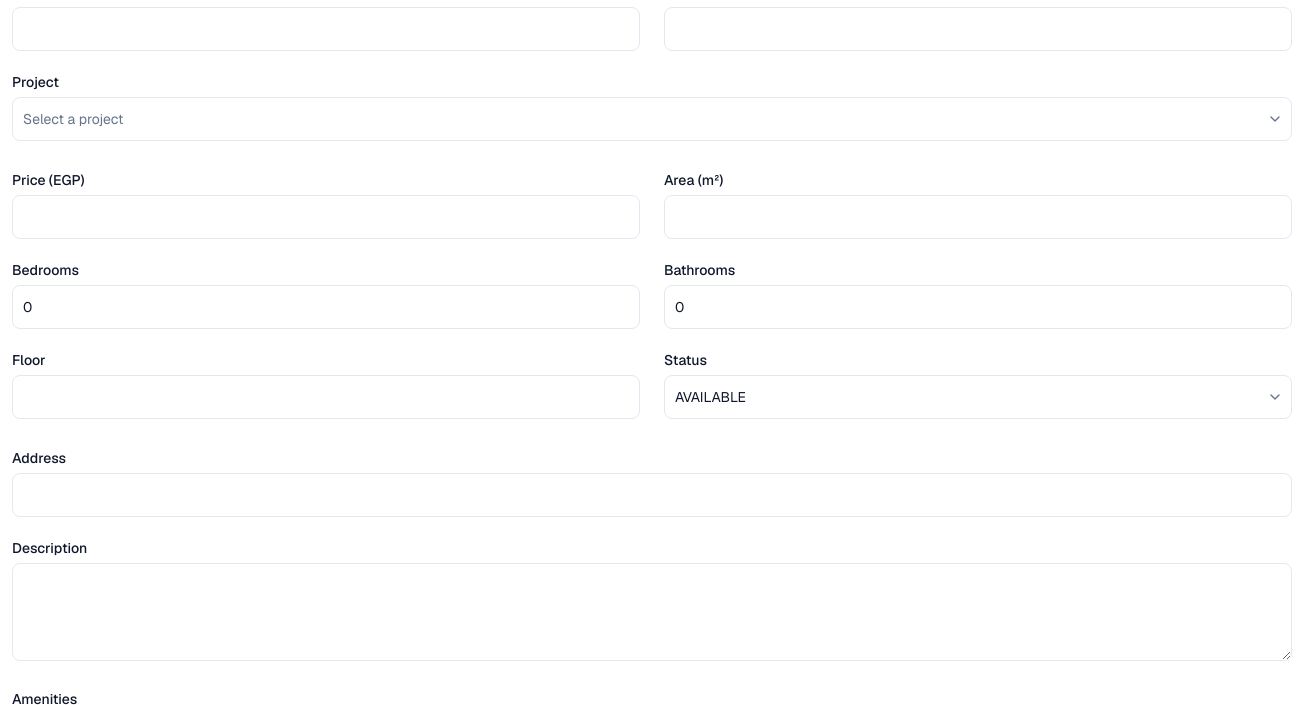
CreateApartmentForm › maps a 409 duplicate response onto the unitNumber field (BR-3)
In the field labelled "Unit name": (326, 29) [12,7,640,51], type "Skyline A1"
In the field labelled "Unit number": (978, 29) [664,7,1292,51], type "A-101"
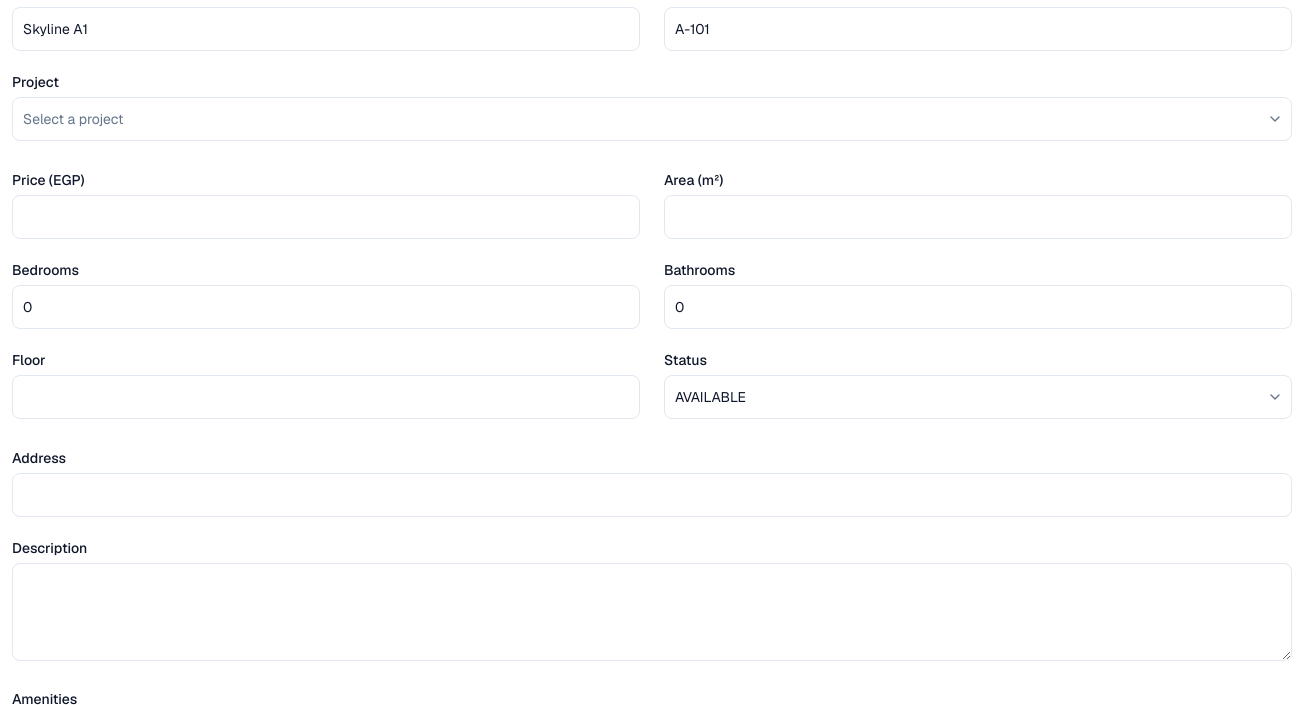
In the number field labelled "Price (EGP)": (326, 217) [12,195,640,239], type "2500000"
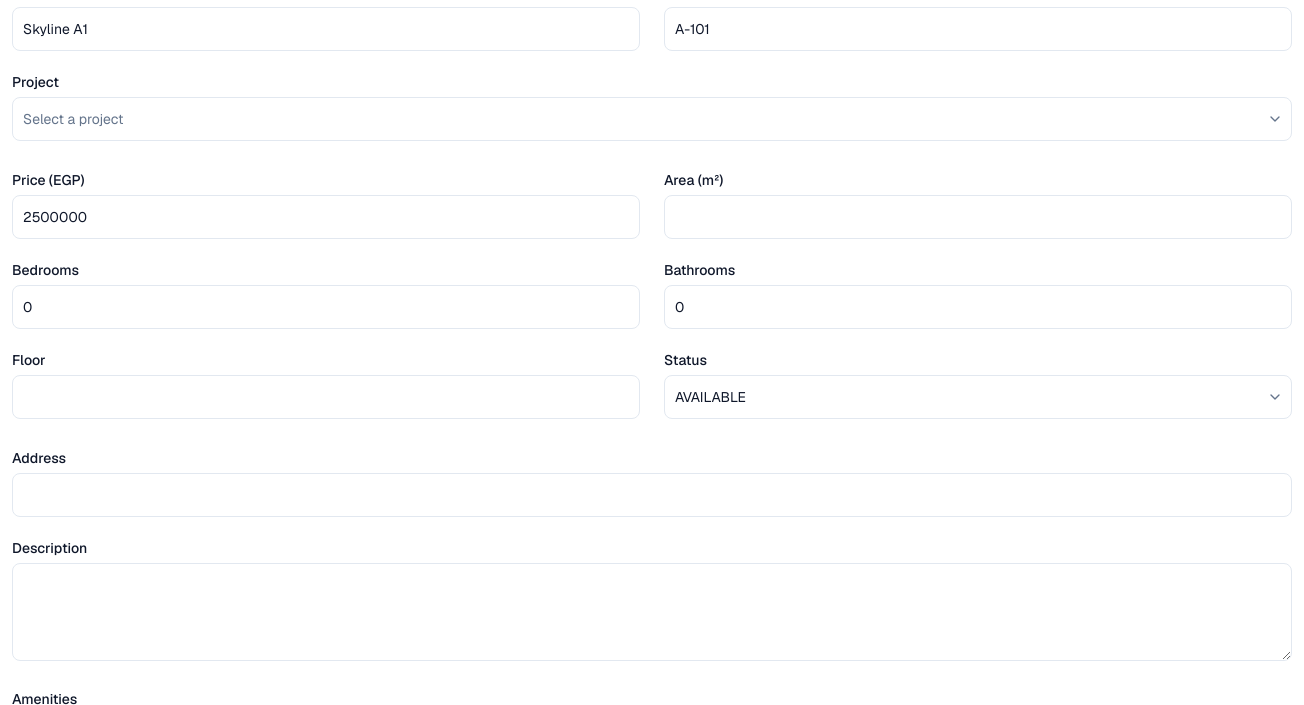
In the number field labelled "Area (m²)": (978, 217) [664,195,1292,239], type "180"
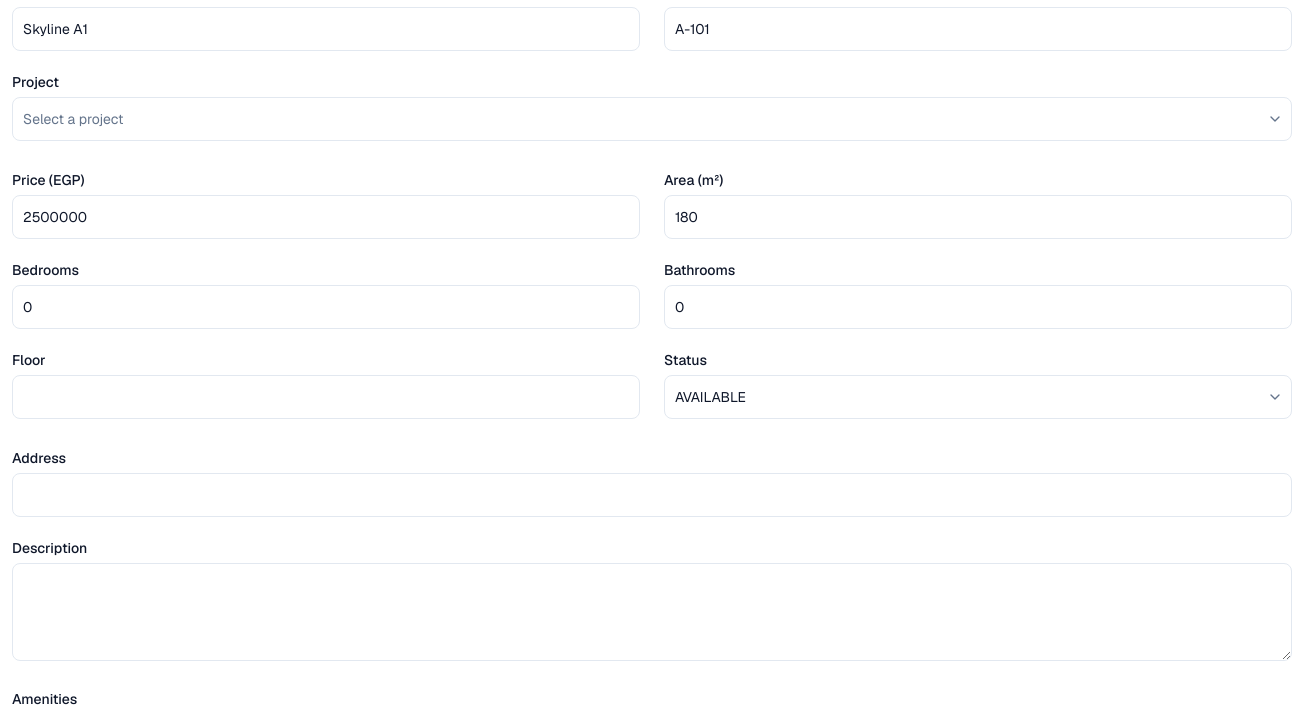
Click the dropdown labelled "project": (73, 119) [12,97,1292,141]
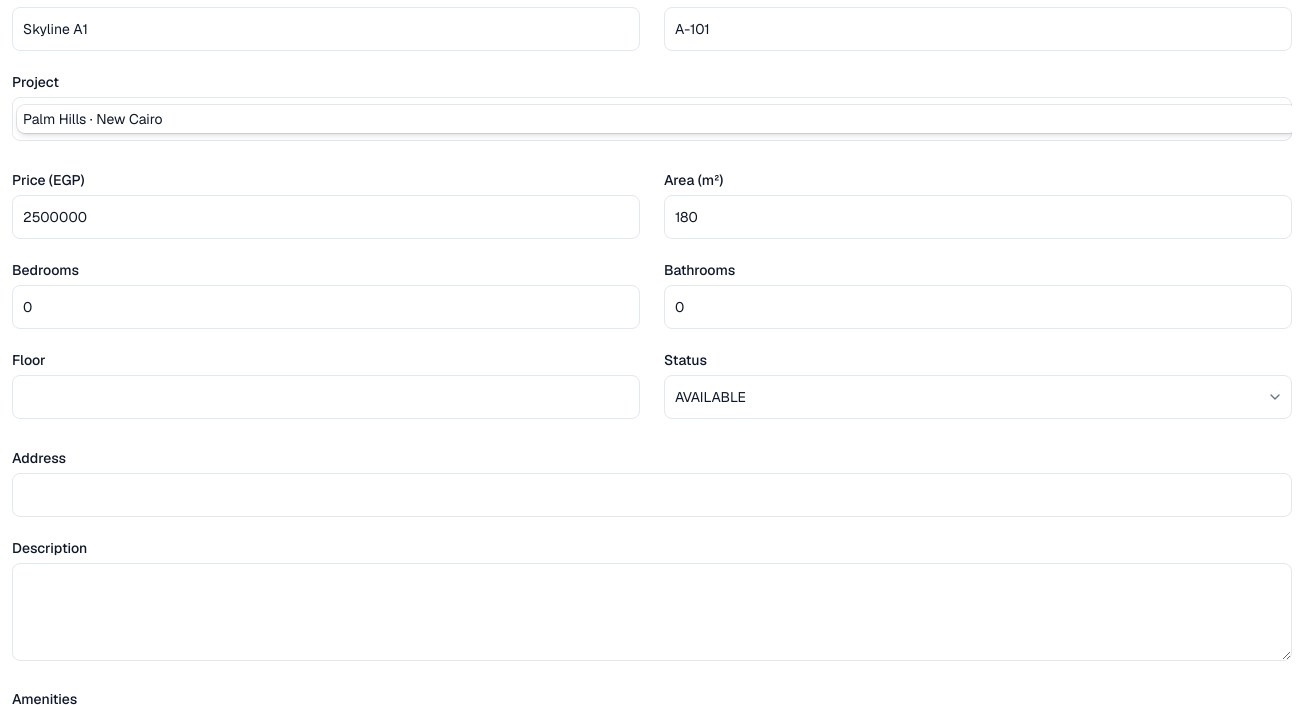
Click the option "Palm Hills · New Cairo": (93, 119) [23,110,163,128]
(page scrolled)
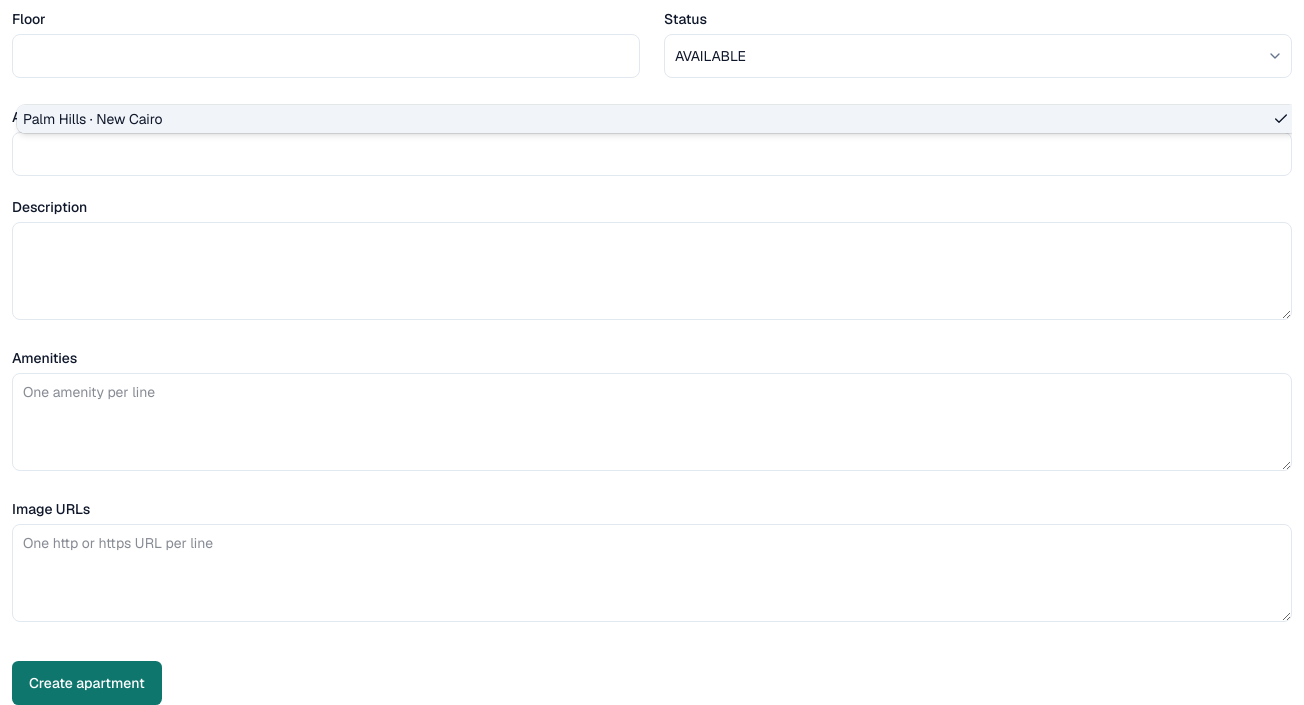
Click the button "Create apartment": (87, 683) [12,661,162,704]
(page scrolled)
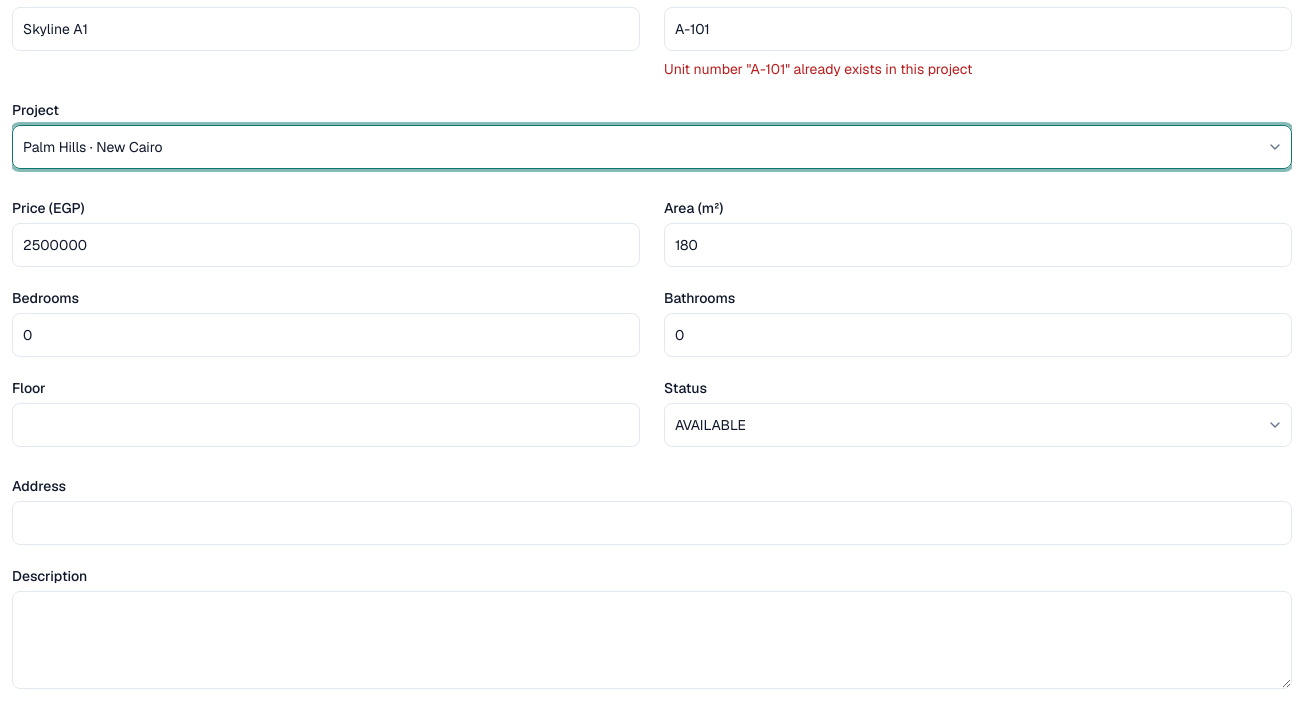
Expected: the text "Unit number \"A-101\" already exists in this project" is shown, [664,60,972,78]
